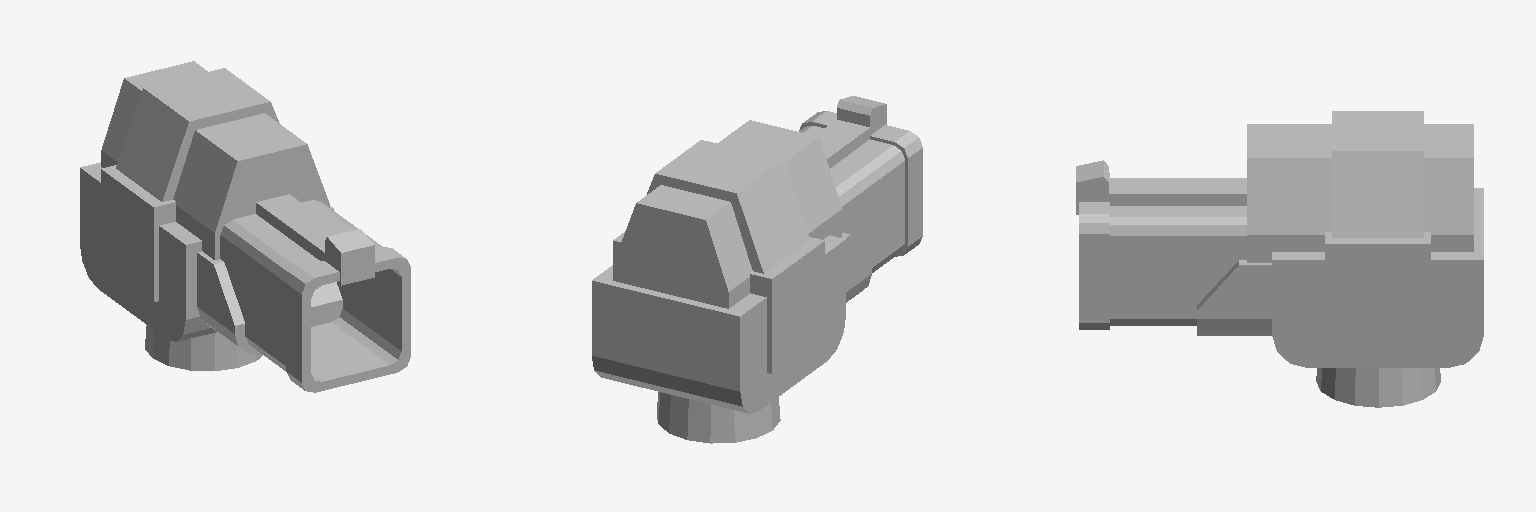
File: Turret_Cannon_Top_Cylinder_031.obj
The picture shows the model from 3 angles: view 1: azimuth 30°, elevation 25°; view 2: azimuth 150°, elevation 25°; view 3: azimuth 270°, elevation 25°; orthographic projection.
Parts seen in each view (by area): view 1: Turret_Cannon_Top_Cylinder.031; view 2: Turret_Cannon_Top_Cylinder.031; view 3: Turret_Cannon_Top_Cylinder.031.
Boxes of the visible parts, x1,y1,x2,y2 form: Turret_Cannon_Top_Cylinder.031: [80, 61, 410, 392]; Turret_Cannon_Top_Cylinder.031: [592, 96, 922, 443]; Turret_Cannon_Top_Cylinder.031: [1076, 111, 1483, 407].
Size of the model in its own units: 0.323 by 0.4855 by 0.7165.